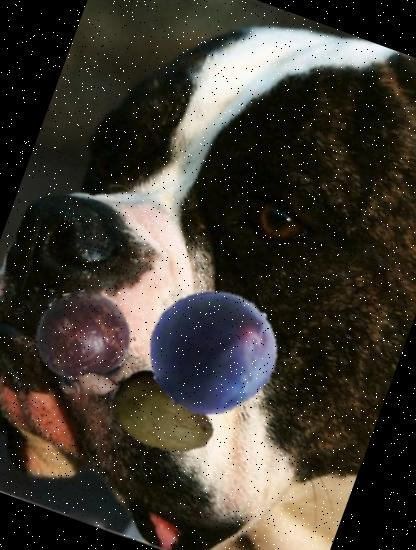Mangostan: (9, 274, 162, 426)
Papaya: (90, 343, 232, 485)
Plum: (131, 268, 294, 432)
